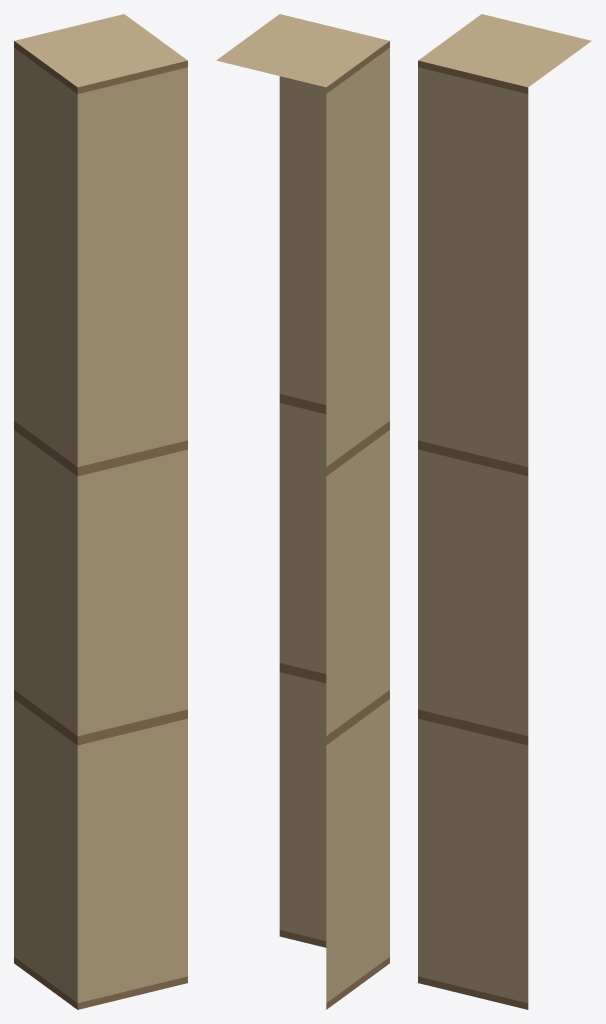
The model's file is M_WallTileT50x400-1Biege80.FBX.
3 renders of one model, left to right at view 1: azimuth 30°, elevation 25°; view 2: azimuth 150°, elevation 25°; view 3: azimuth 330°, elevation 25°, orthographic.
Parts seen in each view (by area): view 1: M_WallTileT50x400-1Biege80; view 2: M_WallTileT50x400-1Biege80; view 3: M_WallTileT50x400-1Biege80.
Boxes of the visible parts, left/top/right/bottom form: M_WallTileT50x400-1Biege80: left=14, top=14, right=187, bottom=1009; M_WallTileT50x400-1Biege80: left=216, top=14, right=389, bottom=1009; M_WallTileT50x400-1Biege80: left=418, top=14, right=591, bottom=1009.
Size of the model in its own units: 0.5 by 4 by 0.5.
